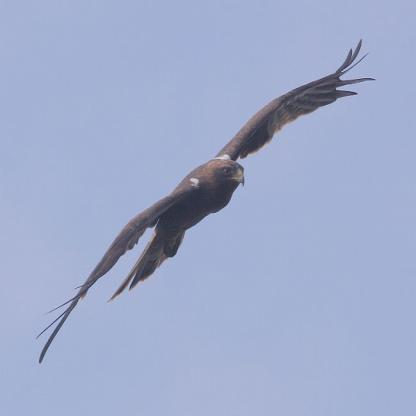Burung: (37, 39, 376, 365)
